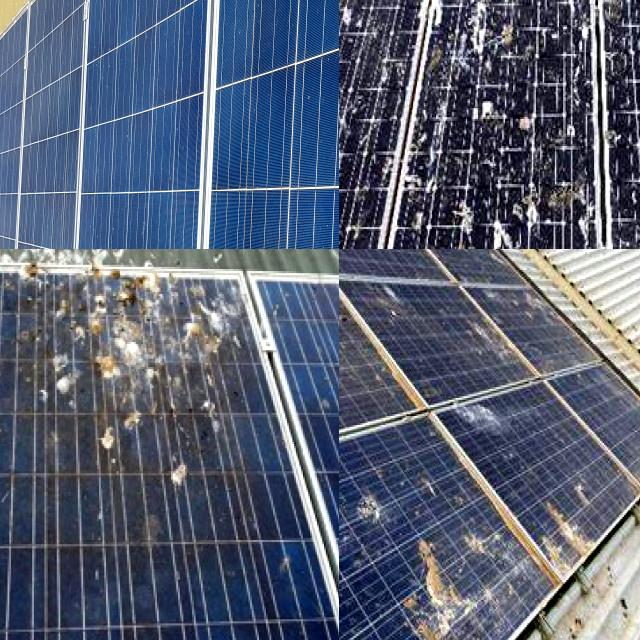bird: (44, 268, 194, 392), (451, 305, 532, 377), (407, 534, 451, 640), (540, 474, 584, 574), (442, 393, 522, 448), (476, 188, 546, 249), (84, 404, 149, 468), (339, 494, 379, 596), (461, 0, 515, 75), (462, 509, 532, 564), (0, 413, 36, 477), (339, 249, 370, 317), (370, 284, 416, 328), (339, 302, 371, 364), (339, 382, 365, 455), (339, 402, 369, 464), (358, 474, 389, 527), (481, 89, 506, 147), (0, 278, 27, 326), (339, 337, 369, 378), (518, 104, 544, 150), (339, 209, 367, 249), (171, 450, 191, 502), (0, 457, 21, 502), (0, 268, 17, 309), (339, 0, 362, 30), (0, 313, 13, 356), (339, 249, 359, 271), (339, 249, 356, 274)
